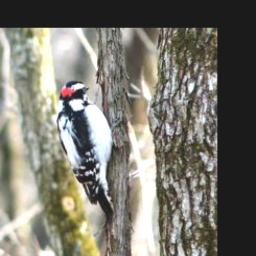Woodpecker: (53, 81, 122, 226)
